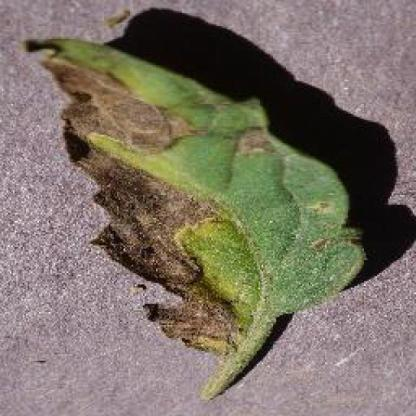Tomato_Blight: (22, 38, 366, 352)
